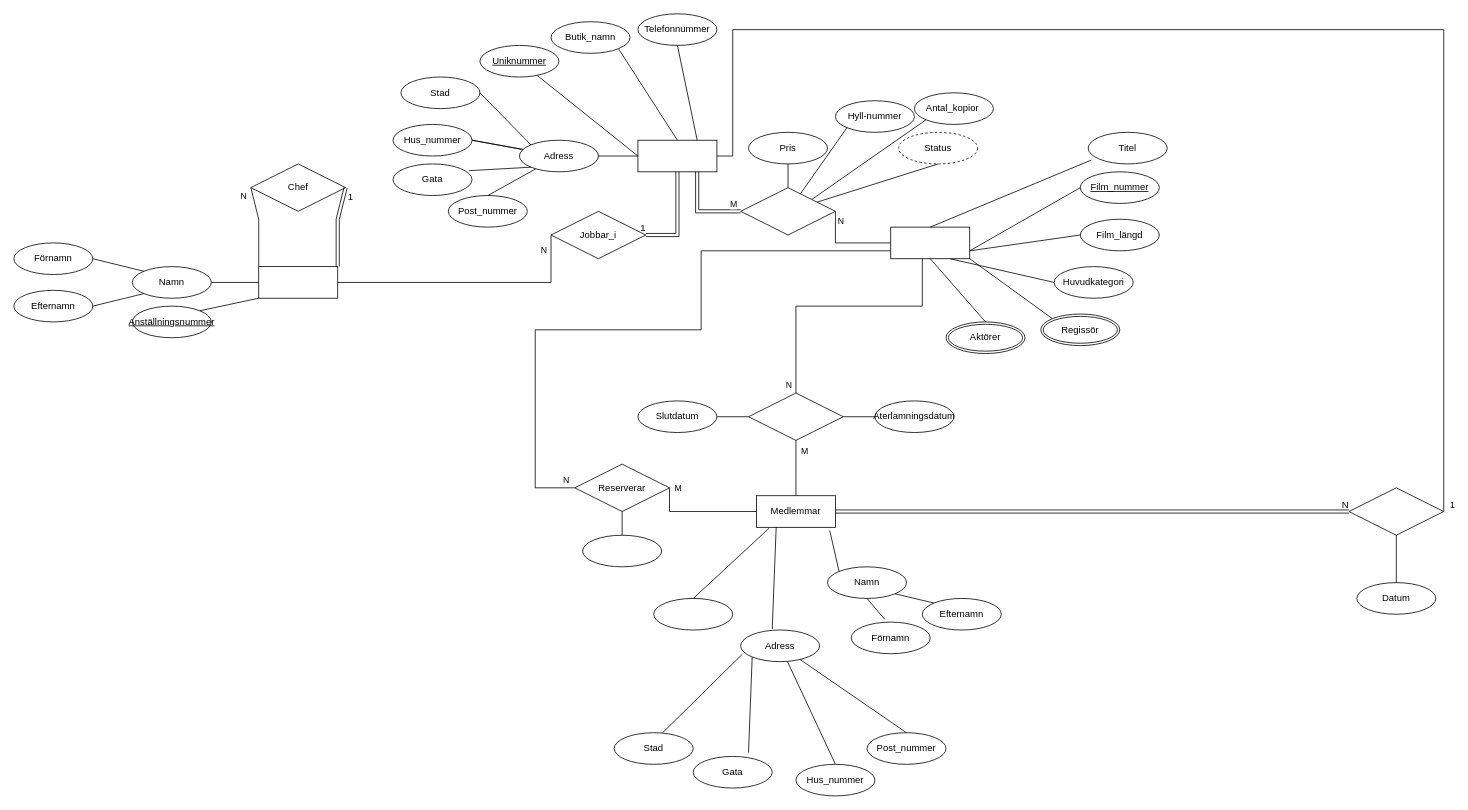
This 1468x810 diagram has some shape labels left out. Each missing label, with the centre of its shape:
"Anställda" goes at (298,282).
"Butik" goes at (677,155).
"Film" goes at (930,242).
"Har" goes at (787,211).
"Hur_ut" goes at (795,416).
"Medlem_nummer" goes at (693,614).
"Registrerad_i" goes at (1396,511).
"Önskad_datum" goes at (622,550).
